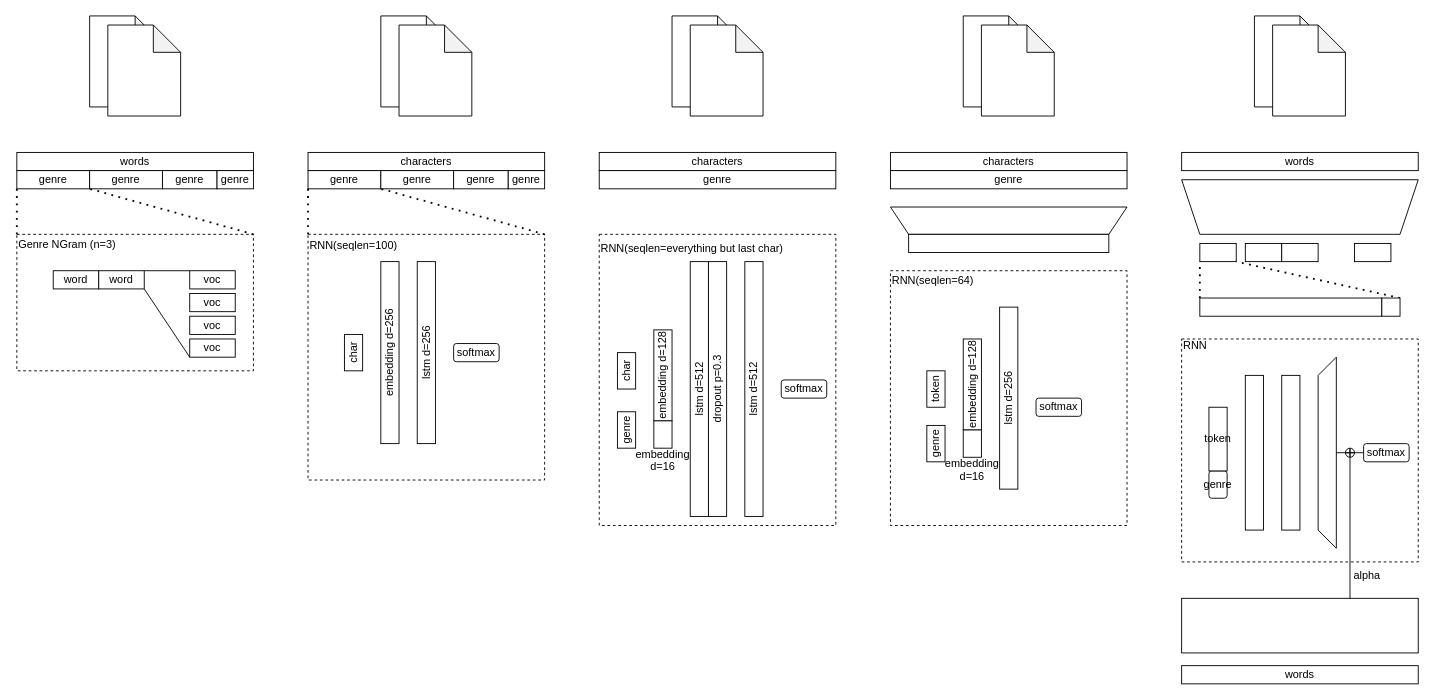
Some shapes in this 1434 by 700 pixel diagram are drawn without their labels. The shapes that lost their labels are listed below. From the top down, each one's centre as x and y in pixels, then its label:
At point 1008,220: "BPE vocsize=2000".
At point 1299,206: "FastText".
At point 1008,243: "tokens".
At point 1290,306: "word emb".
At point 1299,625: "Word counter".
